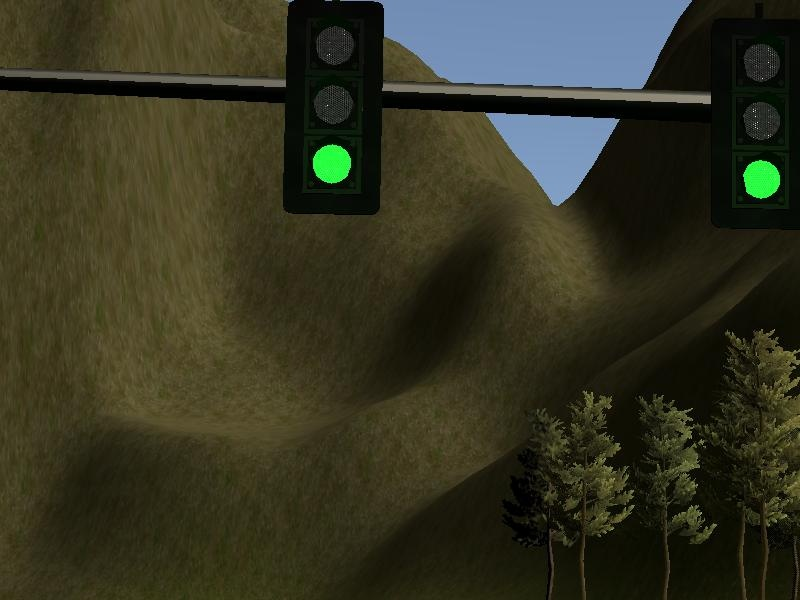traffic_light_green: (1, 2, 800, 229)
